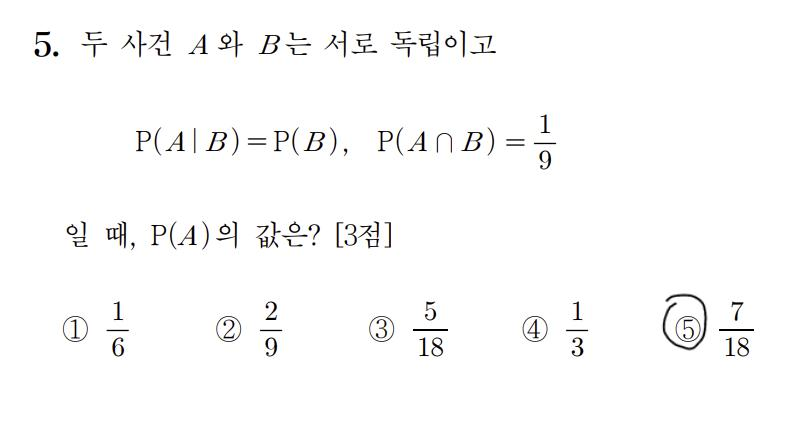1: (657, 291, 712, 352)
paper: (673, 313, 703, 344), (521, 314, 551, 345), (366, 314, 396, 345), (213, 313, 243, 344), (60, 314, 90, 345)
